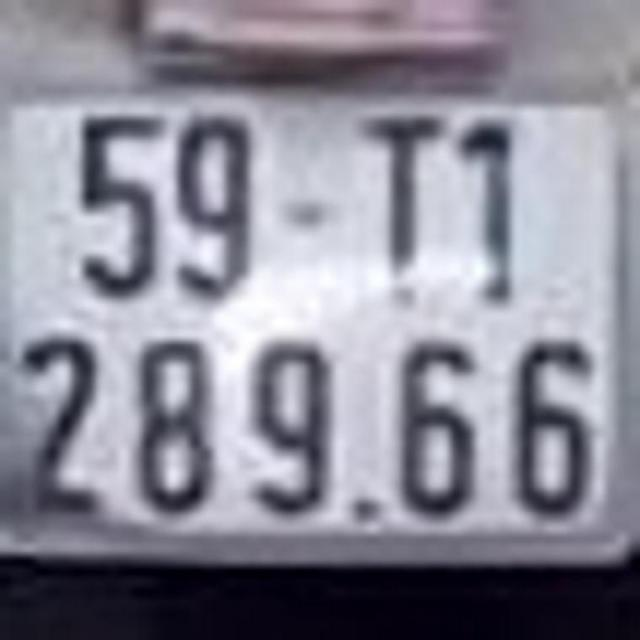1: (454, 109, 522, 308)
2: (17, 326, 103, 524)
5: (77, 102, 166, 298)
6: (512, 331, 595, 520), (397, 334, 475, 524)
8: (133, 321, 214, 521)
9: (245, 330, 331, 520), (168, 106, 252, 298)
T: (357, 110, 454, 300)
